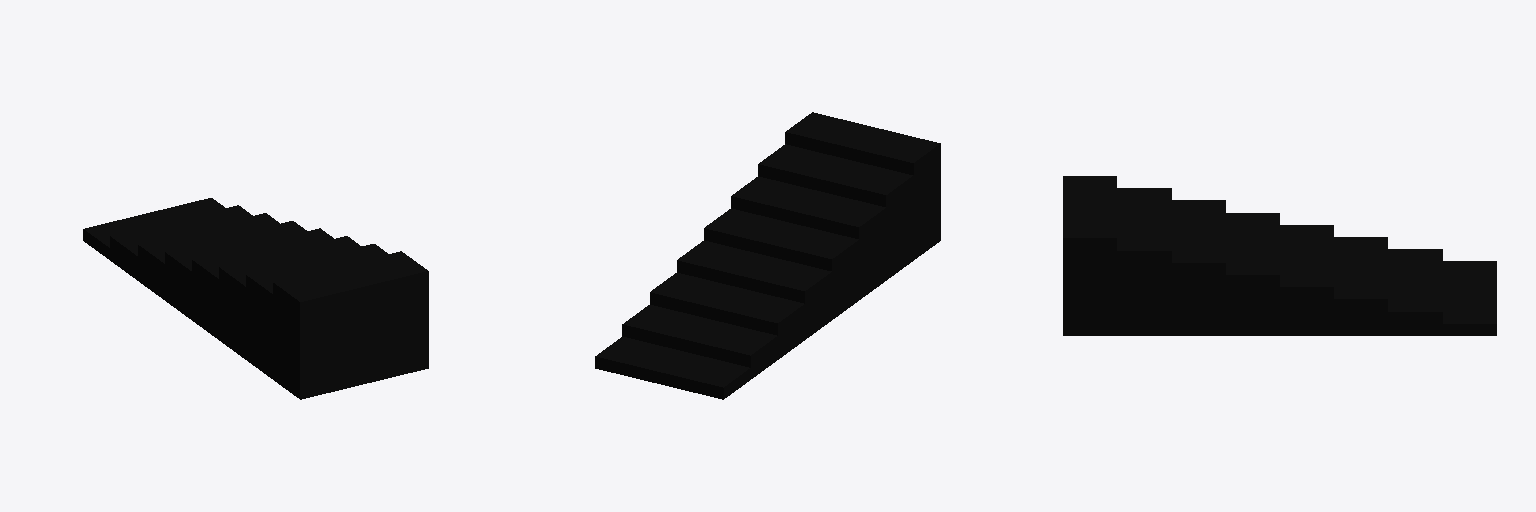
File: Stairs.obj
3 renders of one model, left to right at view 1: azimuth 30°, elevation 25°; view 2: azimuth 150°, elevation 25°; view 3: azimuth 270°, elevation 25°, orthographic.
Parts seen in each view (by area): view 1: Stairs; view 2: Stairs; view 3: Stairs.
Boxes of the visible parts, <box> form: Stairs: <box>83,198,428,399</box>; Stairs: <box>595,112,940,399</box>; Stairs: <box>1063,176,1496,335</box>.
Bounding box in the file's own units: 3.41 × 2.48 × 10.